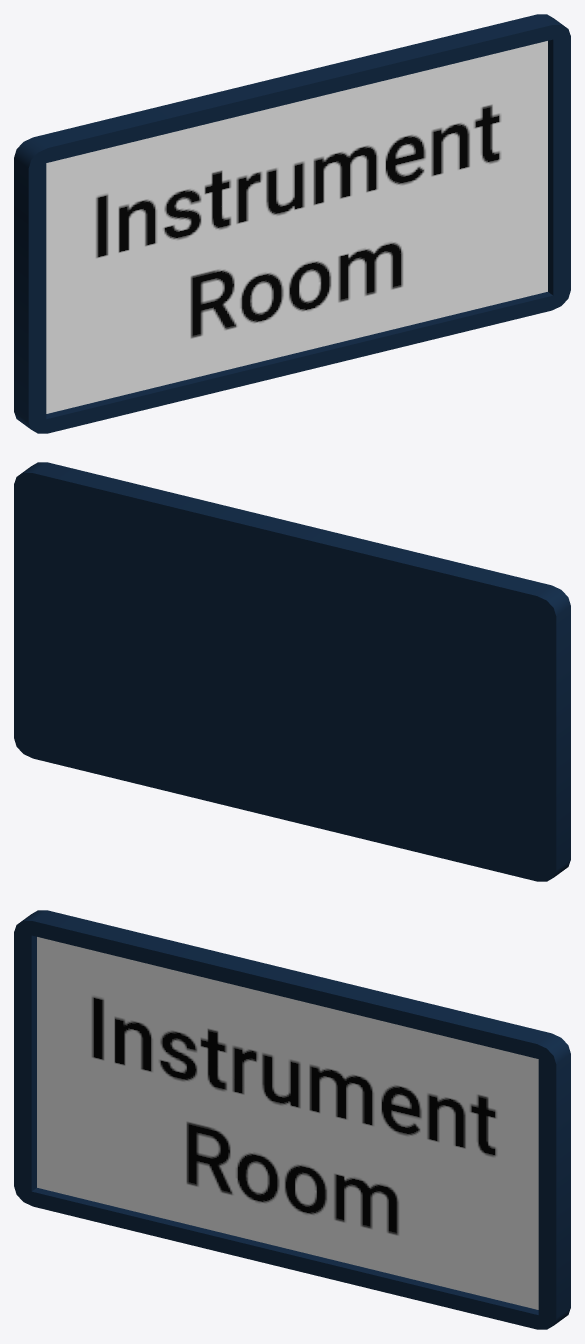
File: Einstein - Instruments Room.fbx
The picture shows the model from 3 angles, top to bottom: view 1: azimuth 30°, elevation 25°; view 2: azimuth 150°, elevation 25°; view 3: azimuth 330°, elevation 25°; orthographic projection.
Visible parts, largest first — view 1: CLIMSO.001; view 2: CLIMSO.001; view 3: CLIMSO.001.
Part boxes in pixels (box(x1,y1,x2,y2)): CLIMSO.001: box(14, 14, 570, 433); CLIMSO.001: box(14, 462, 570, 881); CLIMSO.001: box(14, 910, 570, 1329).
Size of the model in its own units: 297 by 149 by 13.93.
